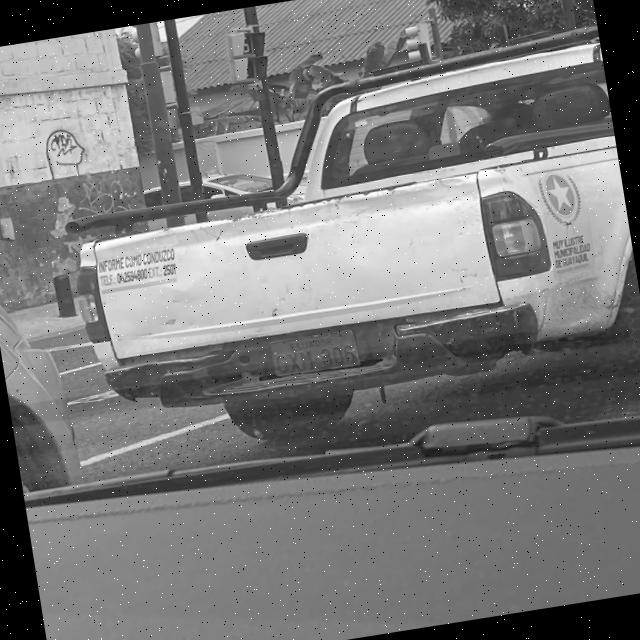Placa: (271, 330, 360, 376)
